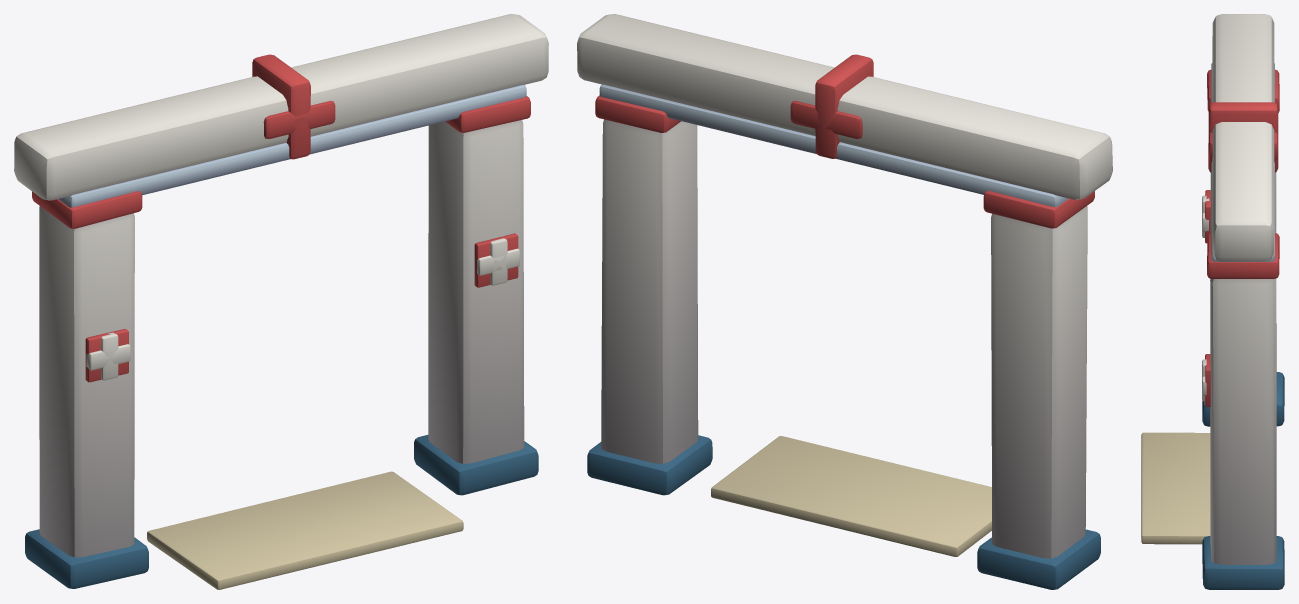
The picture shows the model from 3 angles, left to right: view 1: azimuth 30°, elevation 25°; view 2: azimuth 150°, elevation 25°; view 3: azimuth 270°, elevation 25°; orthographic projection. The views are drawn at different scales.
Parts seen in each view (by area): view 1: gate_9f058b15; view 2: gate_9f058b15; view 3: gate_9f058b15.
Part boxes in pixels (x1,y1,x2,y2): gate_9f058b15: (14,14,548,589); gate_9f058b15: (577,14,1112,589); gate_9f058b15: (1141,14,1284,589).
Size of the model in its own units: 4.94 by 4.19 by 1.4.
